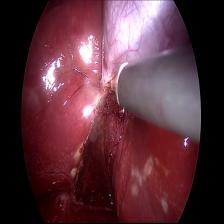Hook: (102, 60, 134, 114)
